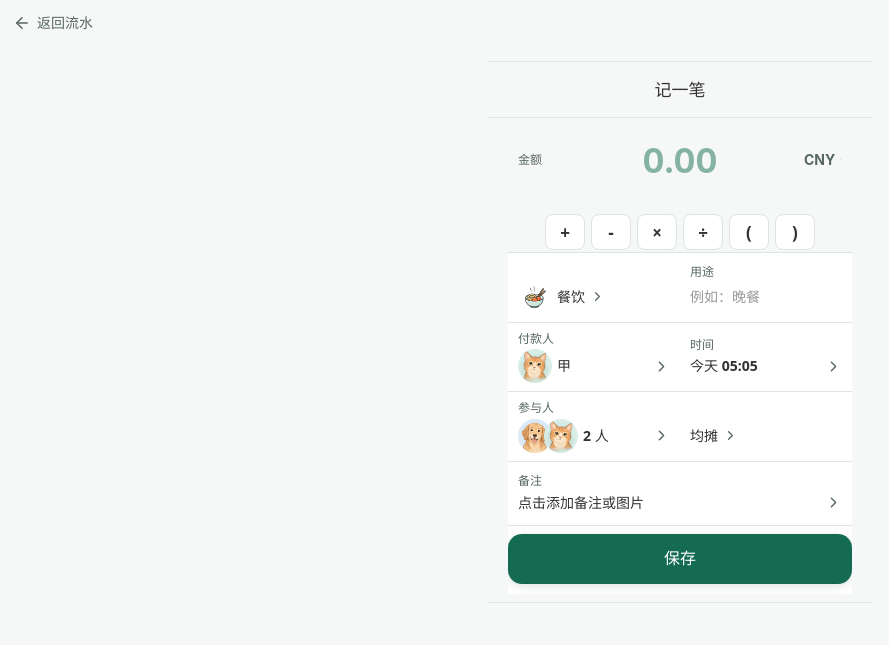
Test: 记账金额表达式 › 非法表达式保留输入并显示中文错误
Type "1/0" into the field with placeholder "0.00". click: (680, 160)
box: left=570, top=133, right=790, bottom=187
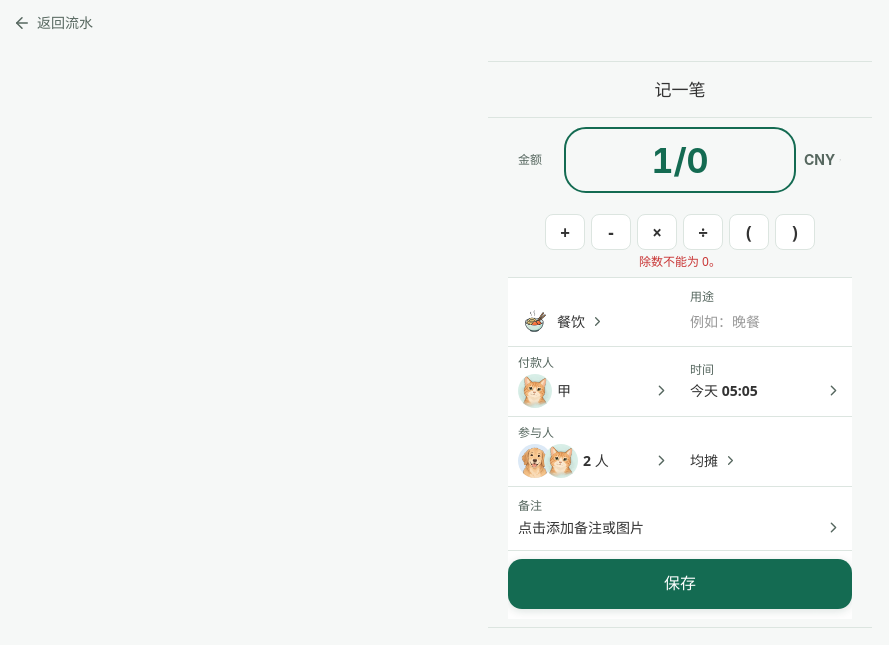
expect the message shows "除数不能为 0": met, box left=639, top=253, right=721, bottom=270
